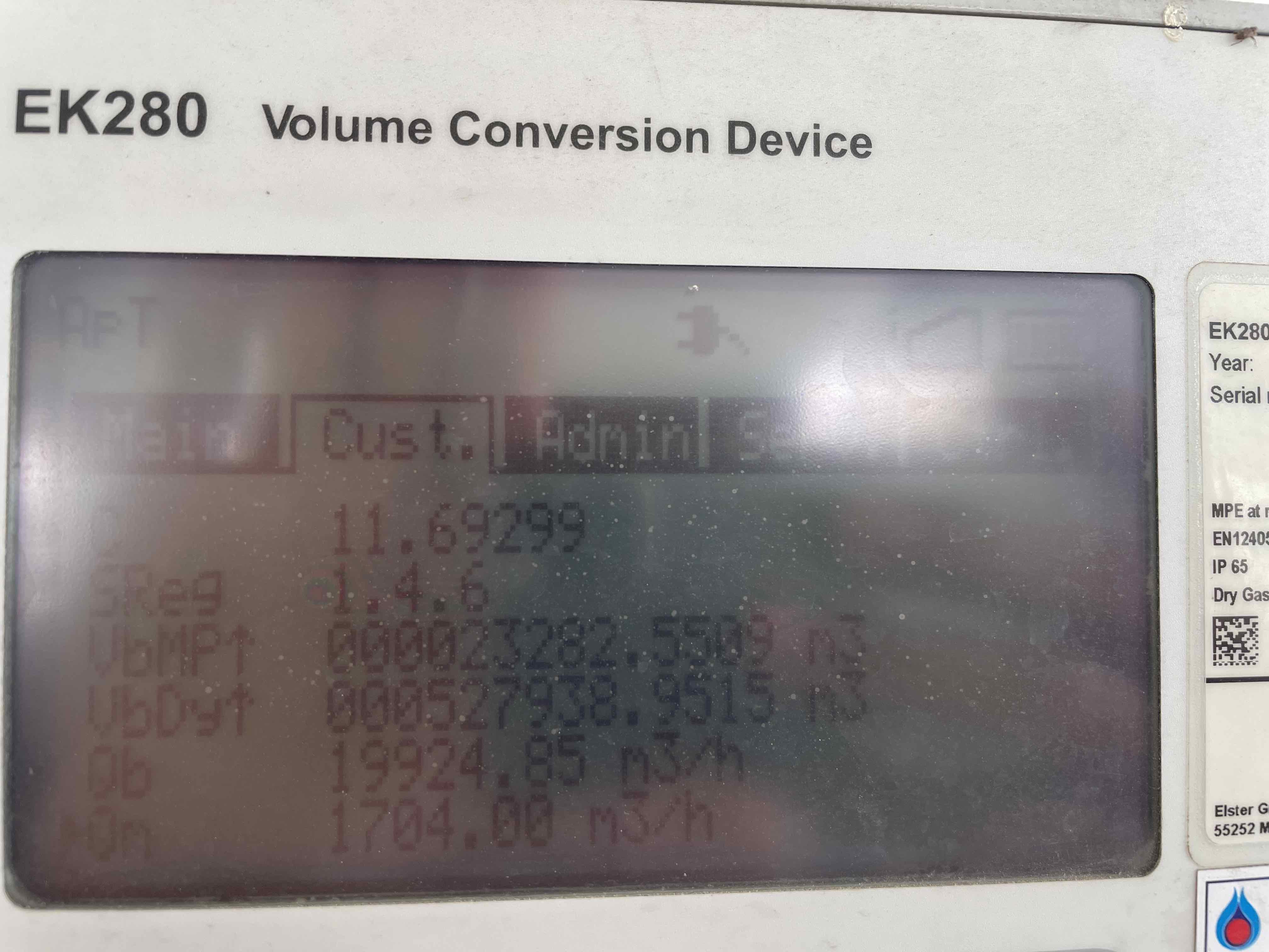digital_screen: (9, 256, 1167, 914)
